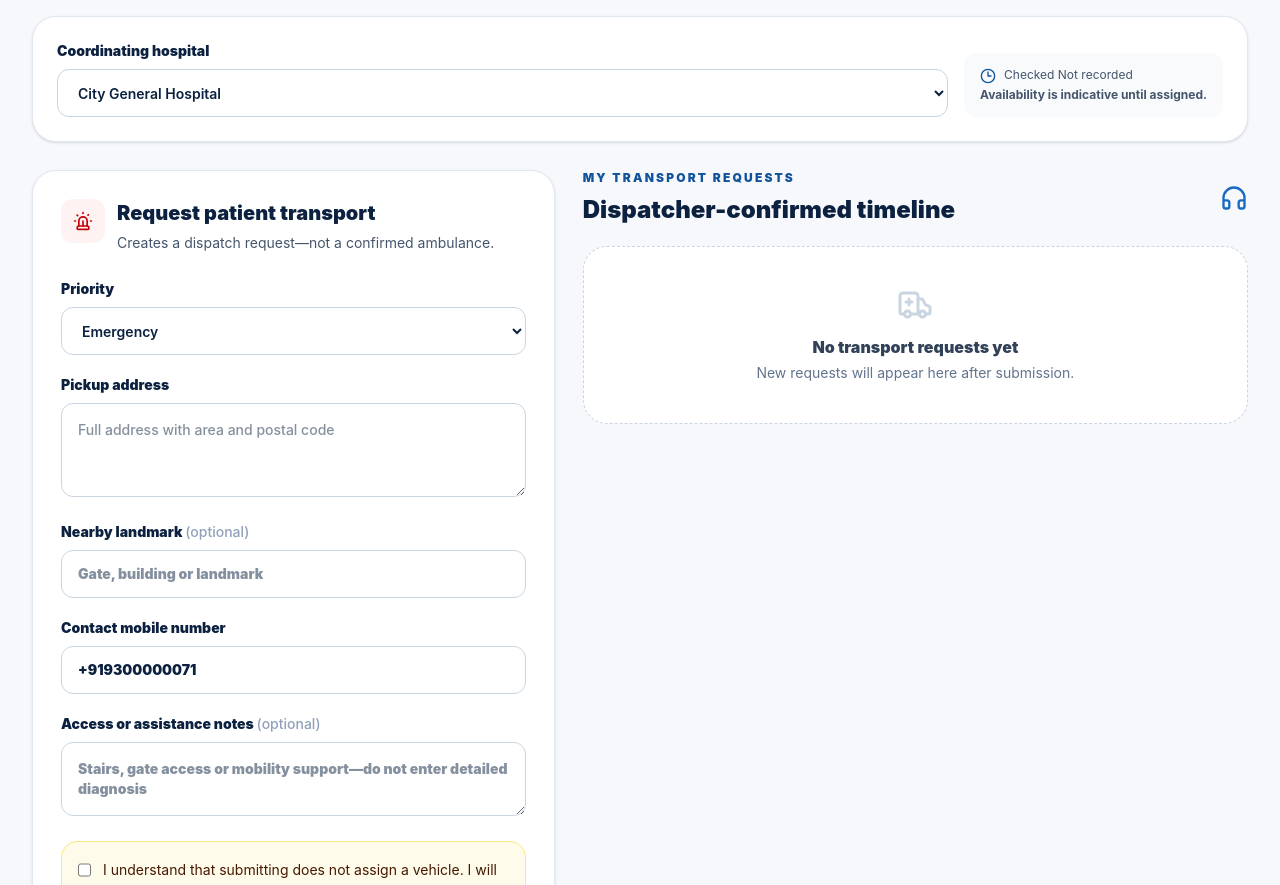
Test: AmbulancePage › submits a new request when no active request exists
(page scrolled)
Type "55 Community Road, Delhi" into the text box labelled "Pickup address".
click(293, 450); type("55 Community Road, Delhi")  # box [61, 403, 526, 497]
(page scrolled)
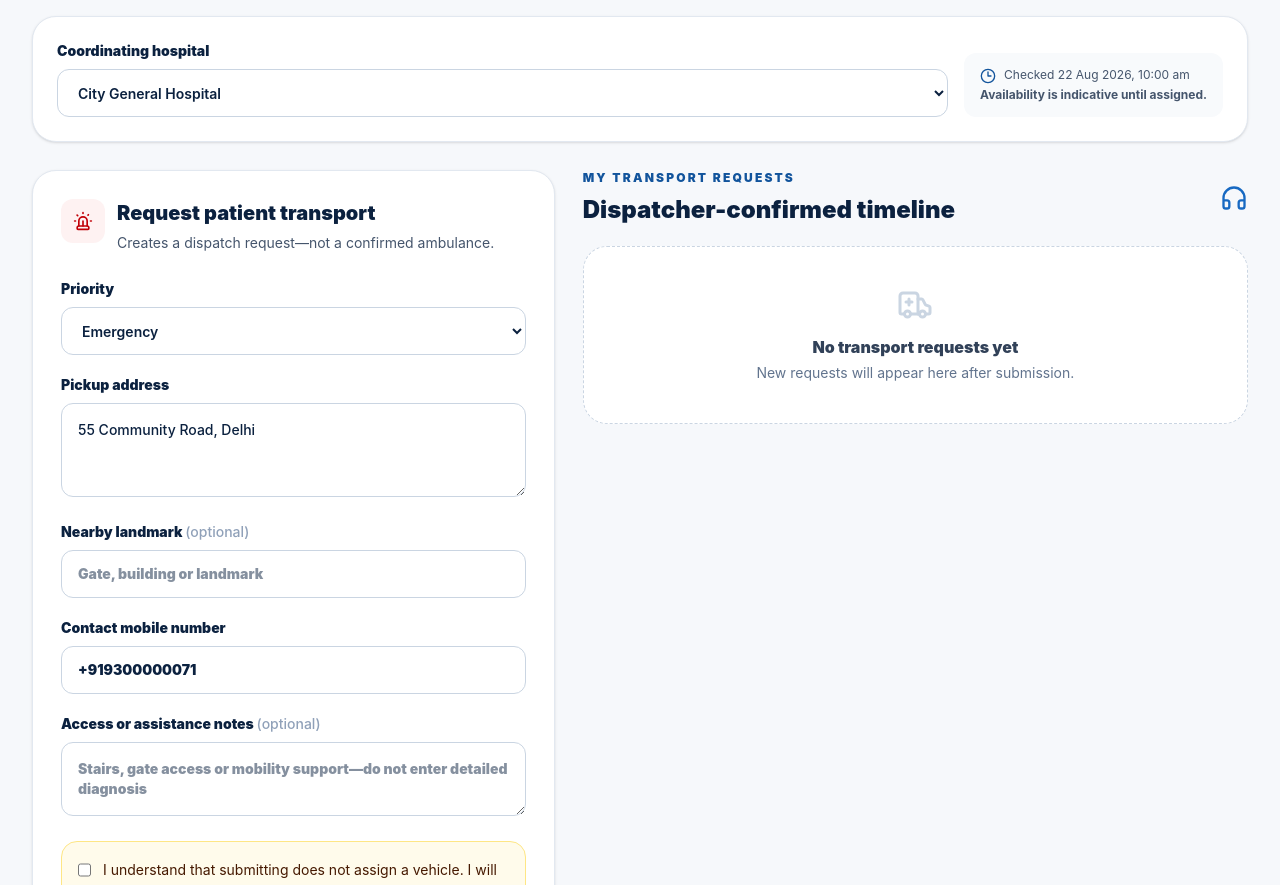
Click the checkbox.
click(84, 870)  # box [78, 862, 91, 878]
(page scrolled)
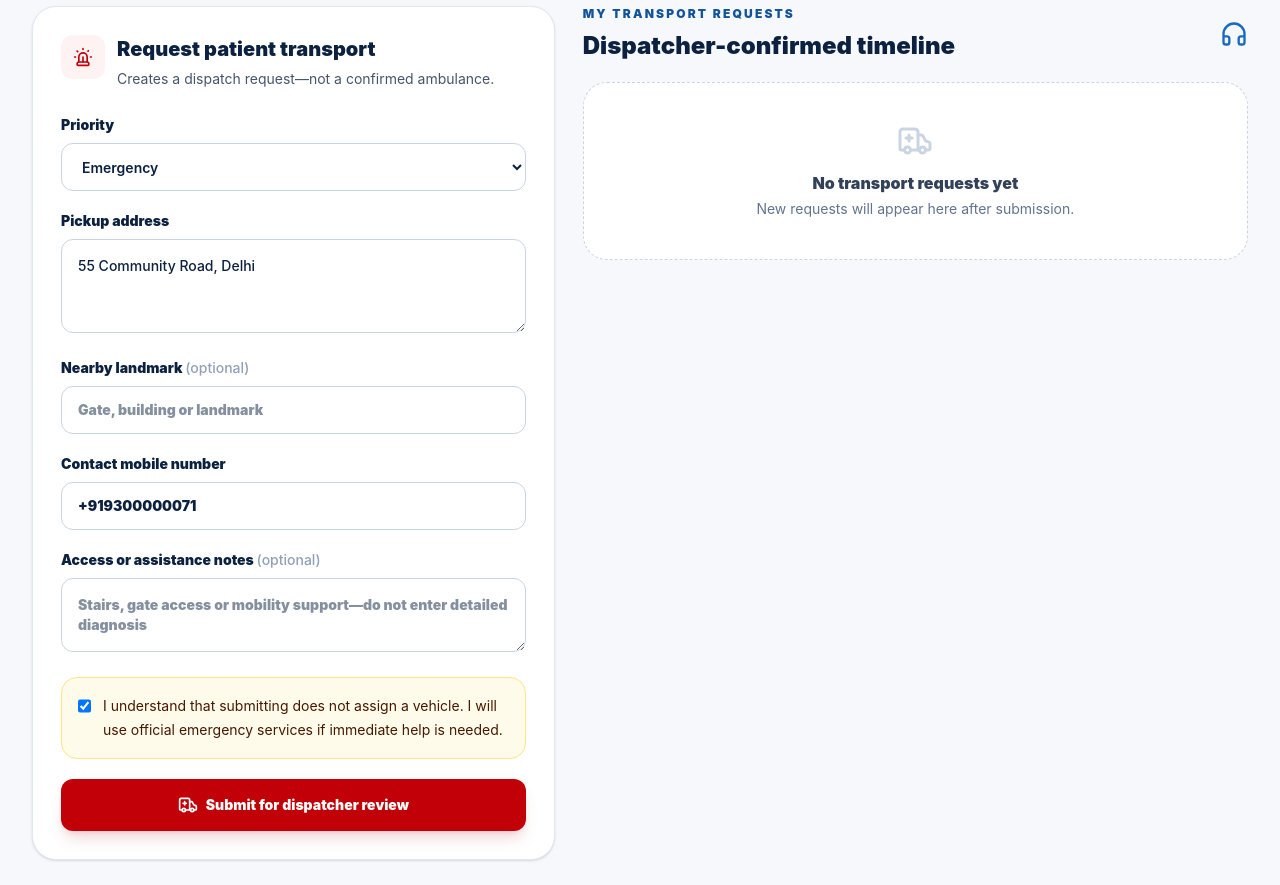
Click the button "Submit for dispatcher review".
click(293, 805)  # box [61, 779, 526, 831]
(page scrolled)
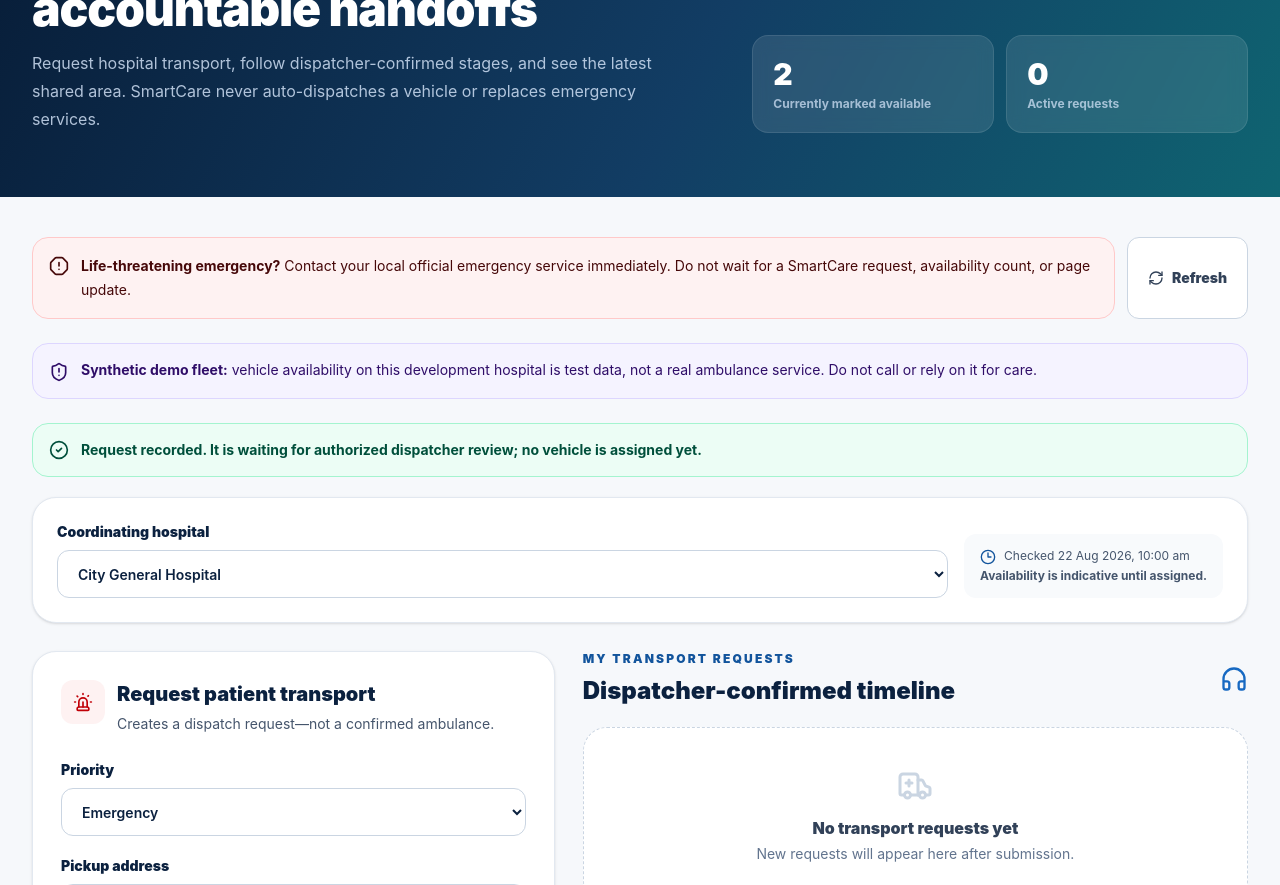
Now the message shows "waiting for authorized dispatcher review", box [81, 441, 702, 458]
